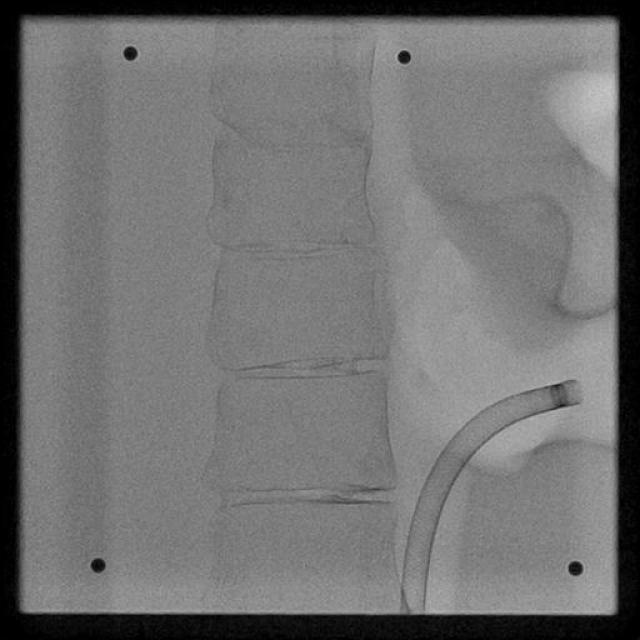bend: (399, 588, 428, 602)
entry: (399, 606, 427, 614)
marker: (551, 382, 568, 410)
tip: (571, 381, 583, 403)
